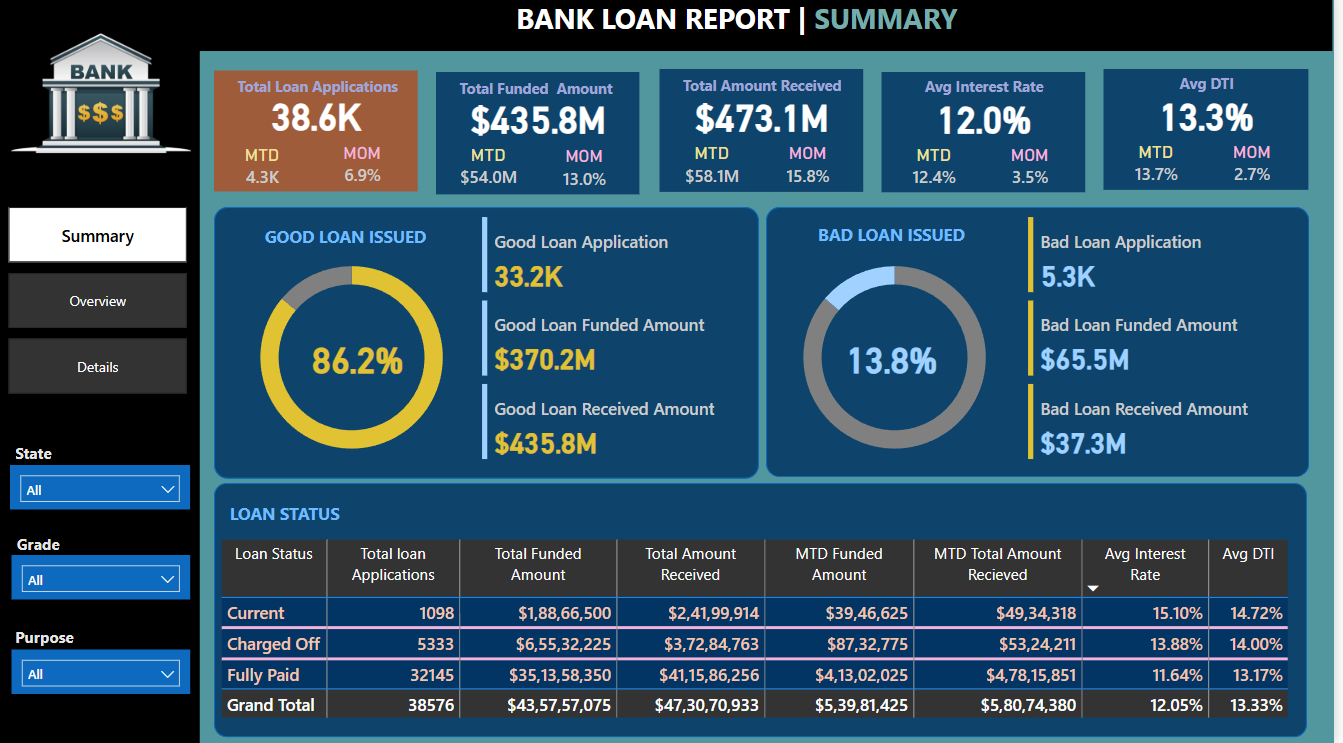

The page's visual inventory and layout, read from the dashboard file:
{"tool":"powerbi","page":{"name":"Summary","canvas":[1280,720],"ordinal":0},"visuals":[{"type":"shape","box":[633.7,71.9,195.3,117.8],"z":0,"group":"g4"},{"type":"shape","box":[207.4,72.7,195.3,116.3],"z":0,"group":"g2"},{"type":"shape","box":[1059.9,73.2,196.4,115.9],"z":0,"group":"g6"},{"type":"shape","box":[420.6,74.2,195,117.4],"z":0,"group":"g3"},{"type":"shape","box":[846.8,75,195.3,115.6],"z":0,"group":"g5"},{"type":"group","id":"g1","title":"Group 2","box":[735.9,204.4,520.9,258.9],"z":0},{"type":"shape","box":[735.9,204.4,520.9,258.9],"z":0,"group":"g1"},{"type":"card","fields":{"Values":["bank_loan_data.Total Amount Received"]},"box":[633.7,85.6,195.3,58],"z":1000,"group":"g4"},{"type":"card","fields":{"Values":["bank_loan_data.Total loan Applications"]},"box":[207.4,86.2,195.3,57.2],"z":1000,"group":"g2"},{"type":"card","fields":{"Values":["bank_loan_data.Avg DTI"]},"box":[1059.9,86.6,196.4,57],"z":1000,"group":"g6"},{"type":"card","fields":{"Values":["bank_loan_data.Total Funded Amount"]},"box":[420.6,87.9,195,57.7],"z":1000,"group":"g3"},{"type":"card","fields":{"Values":["bank_loan_data.Avg Interest Rate"]},"box":[846.8,88.5,195.3,56.9],"z":1000,"group":"g5"},{"type":"shape","box":[207.4,204.4,522.4,260.4],"z":1000},{"type":"donutChart","fields":{"Category":["bank_loan_data.Good vs Bad Loan"],"Y":["bank_loan_data.Total loan Applications"]},"box":[745,233.2,228.6,230.2],"z":1000,"group":"g1"},{"type":"shape","box":[0,0,1279.4,54.8],"z":2000},{"type":"textbox","box":[1061.1,71.2,194.9,34.8],"z":2000,"group":"g6"},{"type":"textbox","box":[650.4,71.9,178.7,32],"z":2000,"group":"g4"},{"type":"textbox","box":[224.1,72.7,178.7,31.6],"z":2000,"group":"g2"},{"type":"textbox","box":[847.9,73.1,193.8,34.7],"z":2000,"group":"g5"},{"type":"textbox","box":[437.2,74.2,178.4,31.9],"z":2000,"group":"g3"},{"type":"textbox","box":[767.7,215,177.2,36.3],"z":2000,"group":"g1"},{"type":"shape","box":[1.5,53,192.3,666.3],"z":3000},{"type":"card","title":"MTD","fields":{"Values":["bank_loan_data.MTD Total Amount Recieved"]},"box":[646.1,141.7,74.2,47.7],"z":3000,"group":"g4"},{"type":"card","title":"MTD","fields":{"Values":["bank_loan_data.MTD Avg DTI"]},"box":[1072.4,141.8,74.6,46.9],"z":3000,"group":"g6"},{"type":"card","title":"MTD","fields":{"Values":["bank_loan_data.MTD Loan Applications"]},"box":[224.1,143.4,57.5,46.7],"z":3000,"group":"g2"},{"type":"card","title":"MTD","fields":{"Values":["bank_loan_data.MTD Avg Int Rate"]},"box":[859.2,143.5,74.2,46.8],"z":3000,"group":"g5"},{"type":"card","title":"MTD","fields":{"Values":["bank_loan_data.MTD Funded Amount"]},"box":[433,143.8,74.1,47.5],"z":3000,"group":"g3"},{"type":"cardVisual","fields":{"Data":["bank_loan_data.Bad Loan Application","bank_loan_data.Bad Loan Funded Amount","bank_loan_data.Bad Loan Received Amount"]},"box":[981.2,208.9,274.1,243.8],"z":3000,"group":"g1"},{"type":"card","title":"MOM","fields":{"Values":["bank_loan_data.MOM Loan Application"]},"box":[313.4,141.9,71.2,46.7],"z":4000,"group":"g2"},{"type":"card","title":"MOM","fields":{"Values":["bank_loan_data.MOM Total Amount Recieved"]},"box":[739.7,142.1,71.2,47.3],"z":4000,"group":"g4"},{"type":"card","title":"MOM","fields":{"Values":["bank_loan_data.MOM  Avg DTI"]},"box":[1166.5,142.1,71.6,46.5],"z":4000,"group":"g6"},{"type":"card","title":"MOM","fields":{"Values":["bank_loan_data.MOM Avg Int Rate"]},"box":[952.8,143.9,71.2,46.4],"z":4000,"group":"g5"},{"type":"card","title":"MOM","fields":{"Values":["bank_loan_data.MOM Total Funded Amount"]},"box":[526.4,144.1,71,47.1],"z":4000,"group":"g3"},{"type":"card","fields":{"Values":["bank_loan_data.GoodLoan %"]},"box":[289.2,319.5,110.5,57.5],"z":4000},{"type":"textbox","box":[492.1,0,448.2,54.5],"z":5000},{"type":"group","id":"g2","title":"Group 1","box":[207.4,72.7,195.3,117],"z":6000},{"type":"group","id":"g3","title":"Group 1","box":[420.6,74.2,195.3,117],"z":7000},{"type":"group","id":"g4","title":"Group 1","box":[633.7,71.9,195.3,116.6],"z":8000},{"type":"group","id":"g5","title":"Group 1","box":[846.8,73.1,195.3,117],"z":9000},{"type":"group","id":"g6","title":"Group 1","box":[1059.9,71.2,195.3,116.6],"z":10000},{"type":"donutChart","fields":{"Category":["bank_loan_data.Good vs Bad Loan"],"Y":["bank_loan_data.Total loan Applications"]},"box":[224.1,233.2,228.6,230.2],"z":11000},{"type":"textbox","box":[243.8,215,177.2,36.3],"z":12000},{"type":"cardVisual","fields":{"Data":["bank_loan_data.Good Loan Application","bank_loan_data.Good Loan Funded Amount","bank_loan_data.Good Loan Amount Received"]},"box":[458.8,209,257.4,243.8],"z":13000},{"type":"card","fields":{"Values":["bank_loan_data.Bad Loan %"]},"box":[801,319.5,110.5,57.5],"z":14000},{"type":"shape","box":[207.4,469.4,1047.8,243.8],"z":15000},{"type":"tableEx","fields":{"Values":["bank_loan_data.loan_status","bank_loan_data.Total loan Applications","bank_loan_data.Total Funded Amount","bank_loan_data.Total Amount Received","bank_loan_data.MTD Funded Amount","bank_loan_data.MTD Total Amount Recieved","bank_loan_data.Avg Interest Rate","bank_loan_data.Avg DTI"]},"box":[209,517.9,1043.3,195.3],"z":16000},{"type":"textbox","box":[216.5,481.5,143.8,36.3],"z":17000},{"type":"slicer","fields":{"Values":["bank_loan_data.address_state"]},"box":[12.1,451.7,172.6,42.4],"z":18000},{"type":"textbox","box":[12.1,424.5,71.2,59.1],"z":19000},{"type":"slicer","fields":{"Values":["bank_loan_data.grade"]},"box":[13.6,538,171.1,42.4],"z":20000},{"type":"textbox","box":[13.6,512.3,60.6,57.5],"z":21000},{"type":"slicer","fields":{"Values":["bank_loan_data.purpose"]},"box":[13.6,628.9,171.1,42.4],"z":22000},{"type":"textbox","box":[12.1,601.6,71.2,69.7],"z":23000},{"type":"image","box":[7.6,7.6,183.2,175.6],"z":23001},{"type":"pageNavigator","box":[10.6,204.4,171.1,181.7],"z":23002}]}

Visuals, with their boxes in screenshot pixels (x1, y1, x2, y2), scaled from the page's 1280x720 canvas onto the 1343x743 screenshot:
shape: 665 74 870 196
shape: 218 75 423 195
shape: 1112 76 1318 195
shape: 441 77 646 198
shape: 888 77 1093 197
"Group 2" group: 772 211 1319 478
shape: 772 211 1319 478
card - bank_loan_data.Total Amount Received: 665 88 870 148
card - bank_loan_data.Total loan Applications: 218 89 423 148
card - bank_loan_data.Avg DTI: 1112 89 1318 148
card - bank_loan_data.Total Funded Amount: 441 91 646 150
card - bank_loan_data.Avg Interest Rate: 888 91 1093 150
shape: 218 211 766 480
donutChart - bank_loan_data.Good vs Bad Loan x bank_loan_data.Total loan Applications: 782 241 1022 478
shape: 0 0 1342 57
textbox: 1113 73 1318 109
textbox: 682 74 870 107
textbox: 235 75 423 108
textbox: 890 75 1093 111
textbox: 459 77 646 109
textbox: 805 222 991 259
shape: 2 55 203 742
"MTD" card: 678 146 756 195
"MTD" card: 1125 146 1203 195
"MTD" card: 235 148 295 196
"MTD" card: 901 148 979 196
"MTD" card: 454 148 532 197
cardVisual - bank_loan_data.Bad Loan Application x bank_loan_data.Bad Loan Funded Amount: 1029 216 1317 467
"MOM" card: 329 146 404 195
"MOM" card: 776 147 851 195
"MOM" card: 1224 147 1299 195
"MOM" card: 1000 148 1074 196
"MOM" card: 552 149 627 197
card - bank_loan_data.GoodLoan %: 303 330 419 389
textbox: 516 0 987 56
"Group 1" group: 218 75 423 196
"Group 1" group: 441 77 646 197
"Group 1" group: 665 74 870 195
"Group 1" group: 888 75 1093 196
"Group 1" group: 1112 73 1317 194
donutChart - bank_loan_data.Good vs Bad Loan x bank_loan_data.Total loan Applications: 235 241 475 478
textbox: 256 222 442 259
cardVisual - bank_loan_data.Good Loan Application x bank_loan_data.Good Loan Funded Amount: 481 216 751 467
card - bank_loan_data.Bad Loan %: 840 330 956 389
shape: 218 484 1317 736
tableEx - bank_loan_data.loan_status x bank_loan_data.Total loan Applications: 219 534 1314 736
textbox: 227 497 378 534
slicer - bank_loan_data.address_state: 13 466 194 510
textbox: 13 438 87 499
slicer - bank_loan_data.grade: 14 555 194 599
textbox: 14 529 78 588
slicer - bank_loan_data.purpose: 14 649 194 693
textbox: 13 621 87 693
image: 8 8 200 189
pageNavigator: 11 211 191 398
